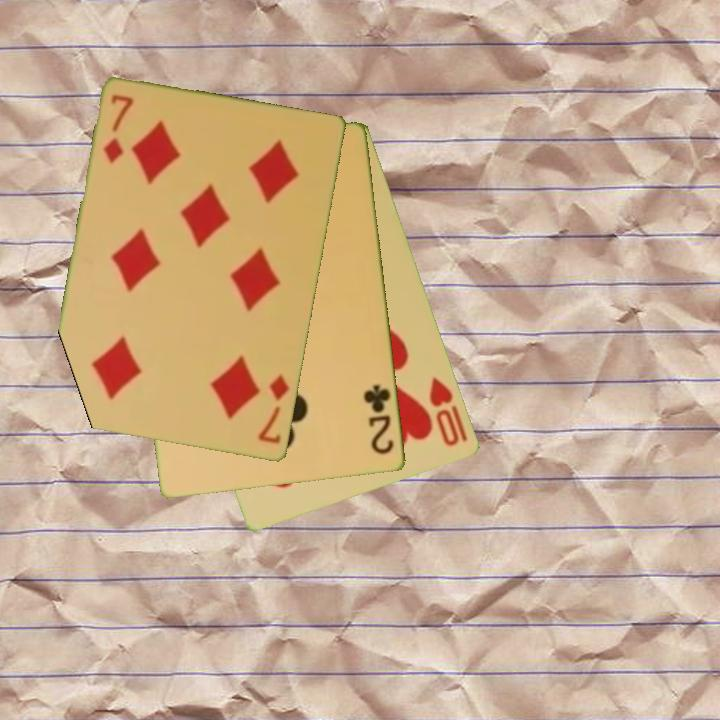10h: (426, 373, 471, 450)
2c: (360, 381, 397, 458)
7d: (254, 371, 293, 447), (100, 91, 137, 168)
